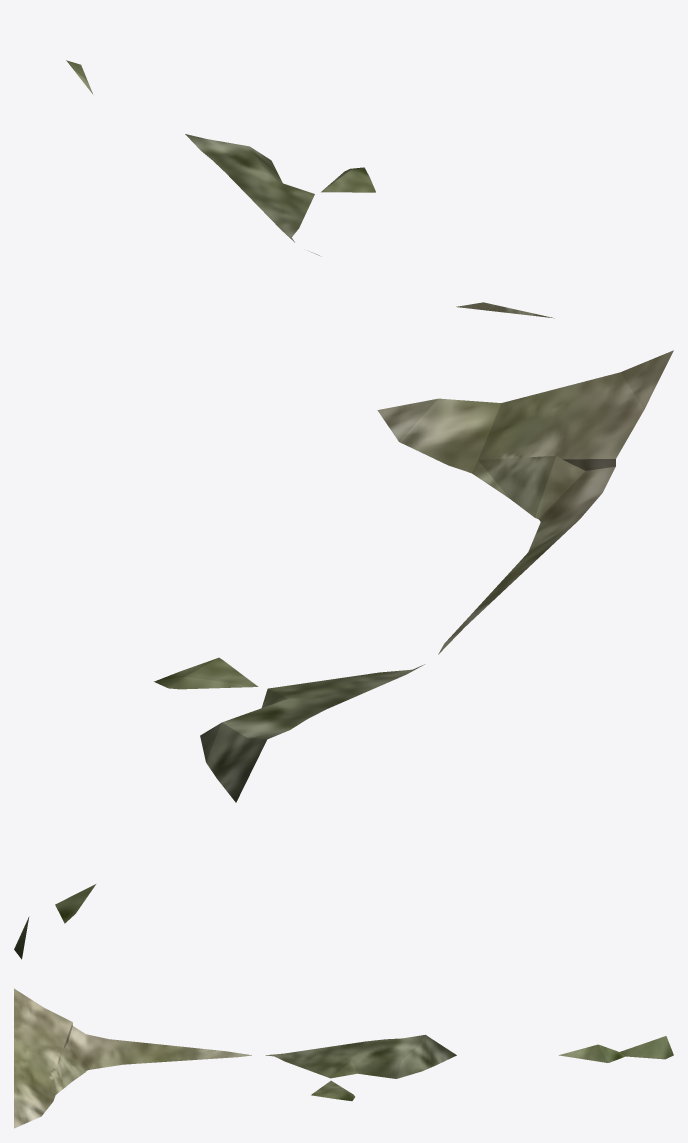
The picture shows the model from 3 angles, top to bottom: view 1: azimuth 30°, elevation 25°; view 2: azimuth 150°, elevation 25°; view 3: azimuth 270°, elevation 25°; orthographic projection. The views are drawn at different scales.
Size of the model in its own units: 0.755 by 0.3219 by 2.87.
1 material, 1 textured.
